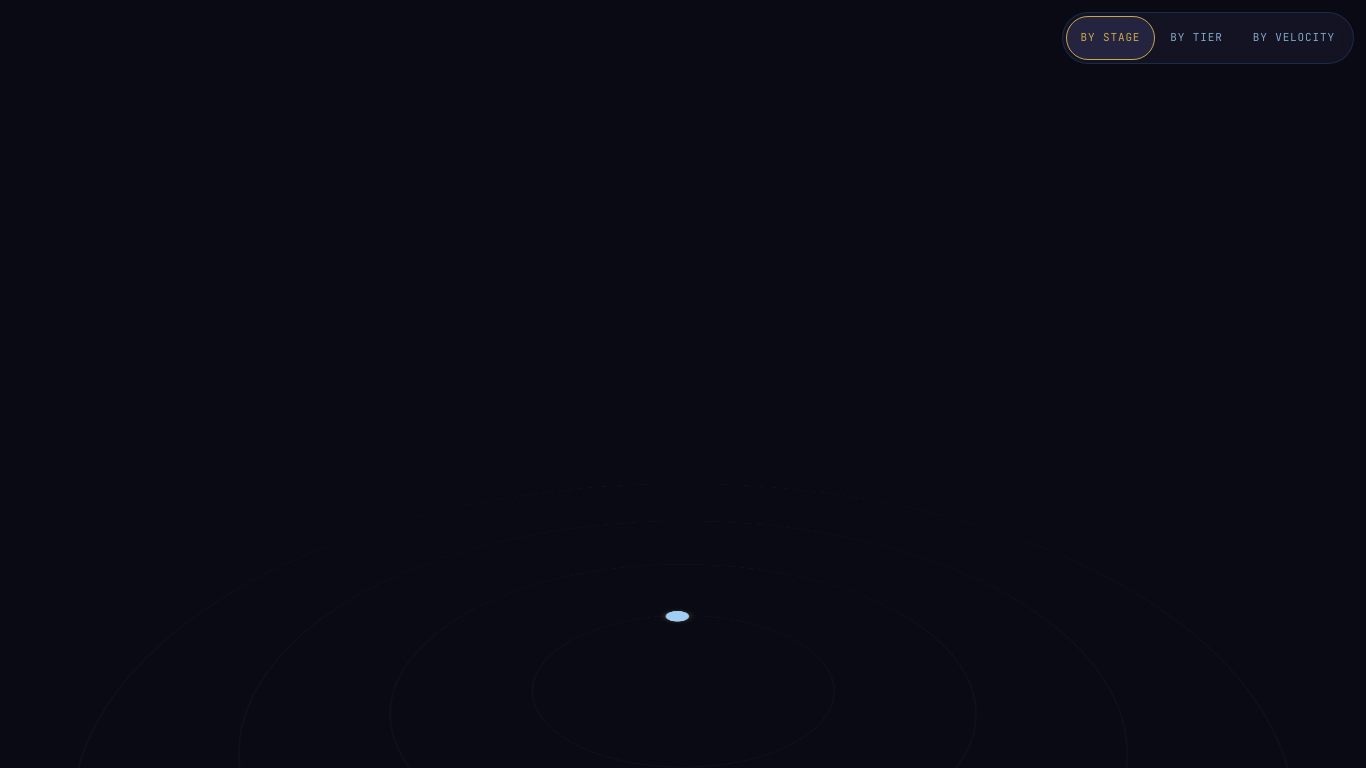
Orrery — open via planet click › humanizes underscored statuses (interview_scheduled → 'Interview scheduled')
The width and height of the screenshot is (1366, 768).
Click the button named "Analyst at Acme, interview_scheduled": click(678, 616) [666,611,689,622]
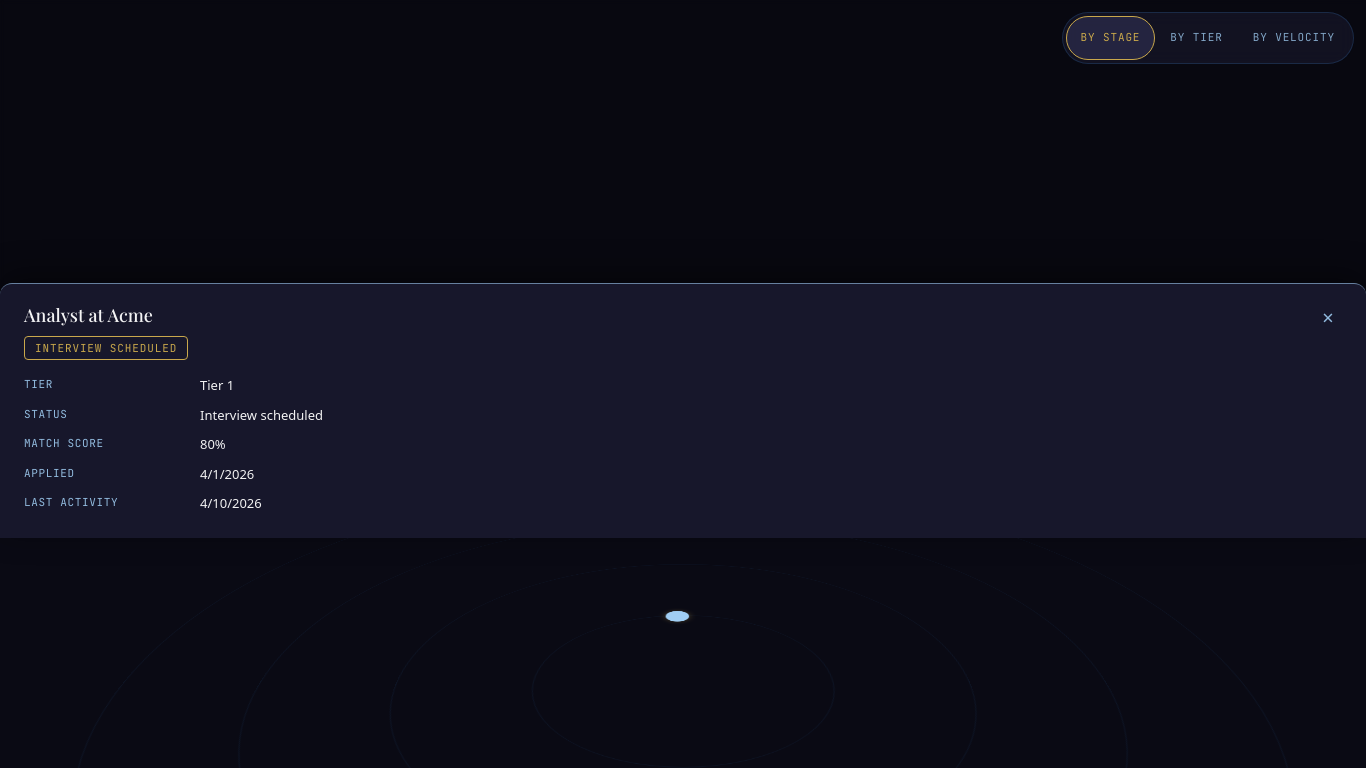
Expected: the dialog shows "Interview scheduled", [35,341,177,355]
